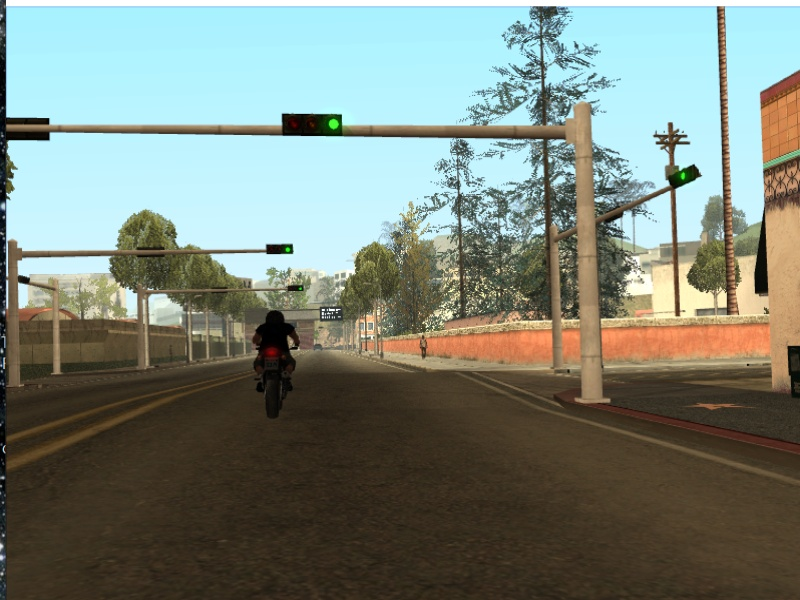person: (418, 333, 428, 357)
pole: (568, 110, 615, 416), (8, 241, 27, 390), (549, 231, 566, 378), (51, 281, 64, 378), (136, 286, 150, 372), (181, 303, 195, 364), (371, 301, 385, 361)
vehicle: (251, 307, 303, 422)
